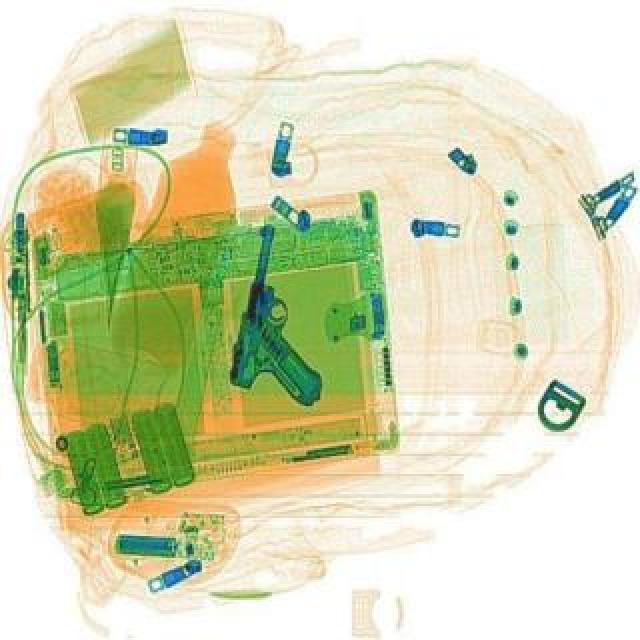gun: (220, 222, 360, 406)
